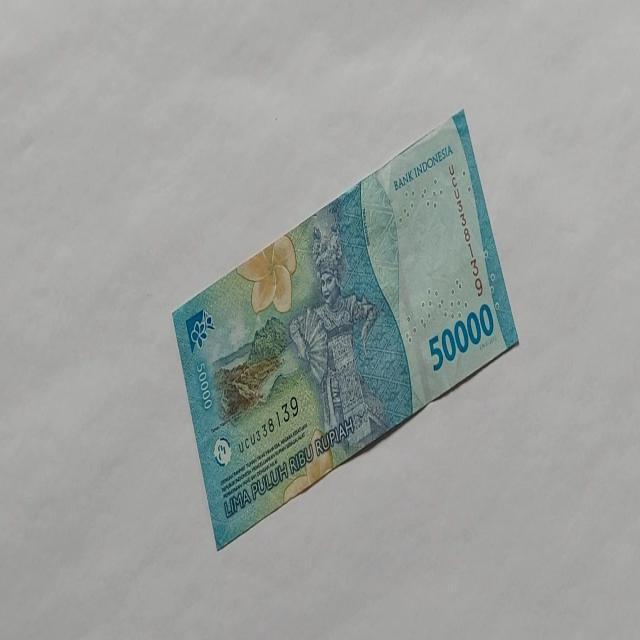lima puluh ribu rupiah: (170, 108, 520, 550), (427, 302, 495, 372)
